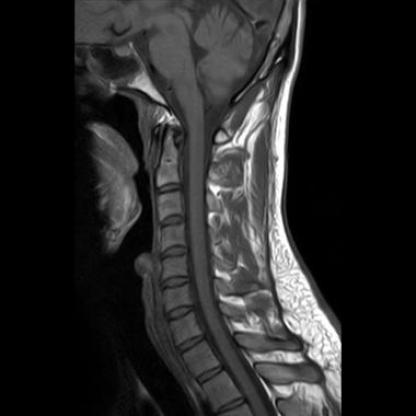Degenerative Disc Diseaserotation: (162, 305, 198, 322), (156, 245, 190, 261), (158, 214, 186, 230)
